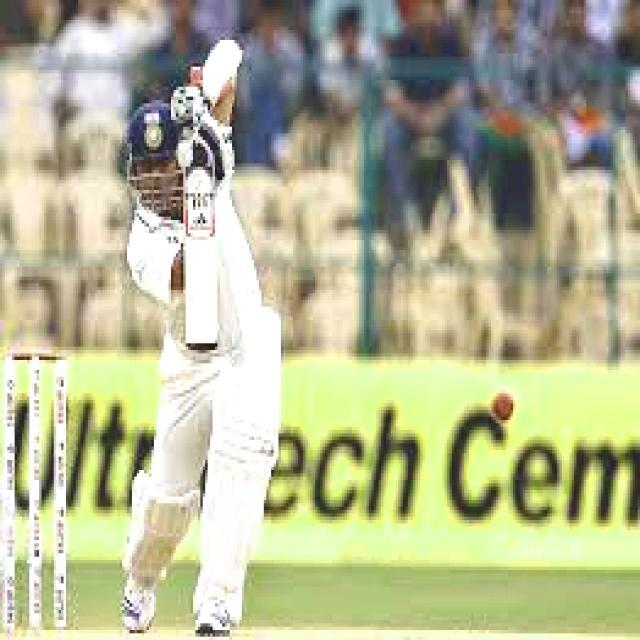bat: (179, 165, 227, 355)
toe: (185, 339, 223, 353)
